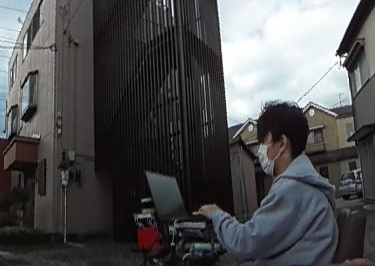person: (229, 96, 342, 266)
